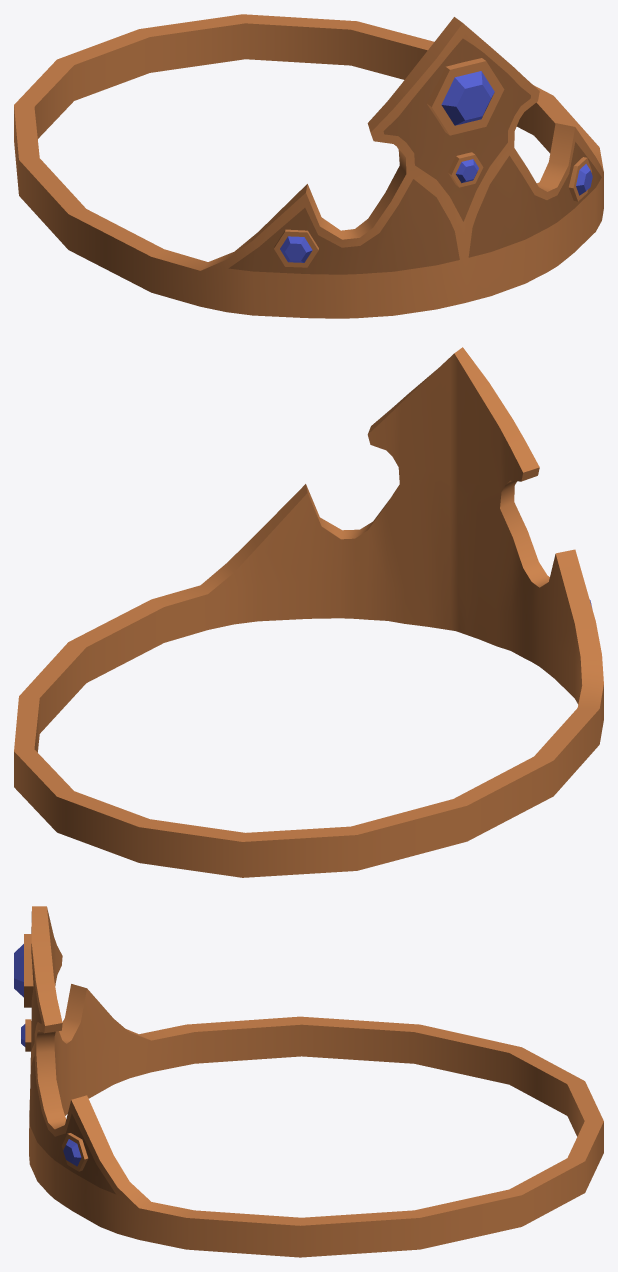
The model's file is Tiara_02.fbx.
The picture shows the model from 3 angles, top to bottom: view 1: azimuth 30°, elevation 25°; view 2: azimuth 150°, elevation 25°; view 3: azimuth 270°, elevation 25°; orthographic projection. The views are drawn at different scales.
Visible parts, largest first — view 1: Tiara_02; view 2: Tiara_02; view 3: Tiara_02.
Boxes of the visible parts, left/top/right/bottom form: Tiara_02: left=14, top=14, right=603, bottom=318; Tiara_02: left=14, top=347, right=603, bottom=877; Tiara_02: left=14, top=906, right=603, bottom=1257.
Size of the model in its own units: 0.214 by 0.1176 by 0.255.
